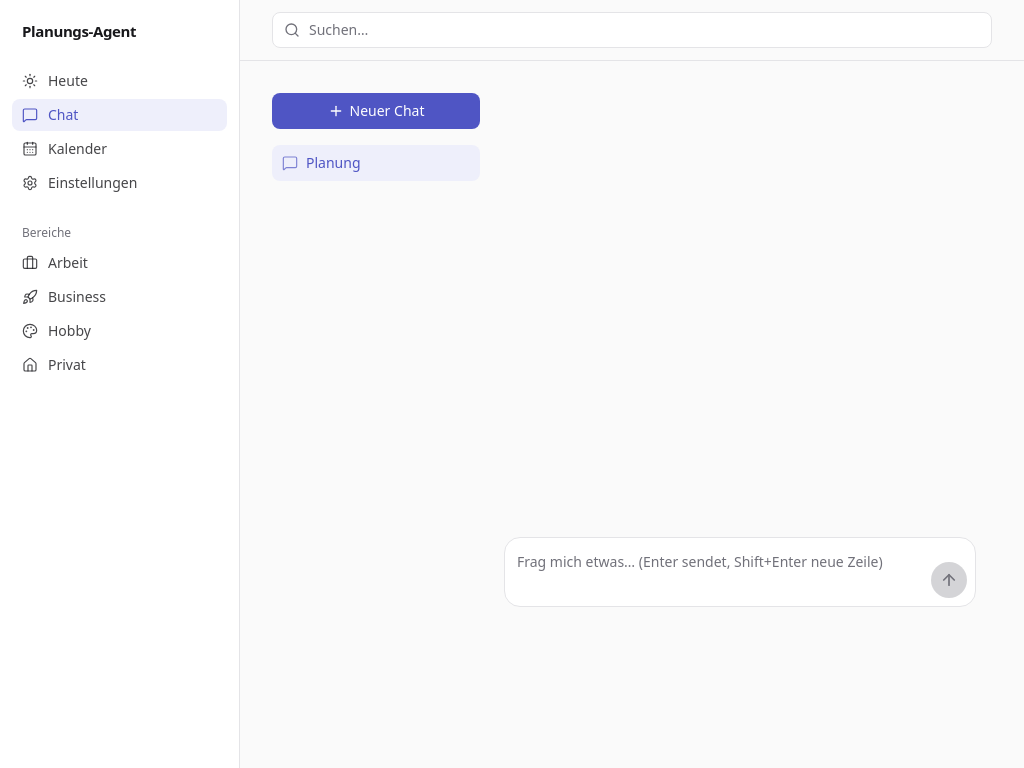
Test: sends a message, then shows the stored history
Type "Milch kaufen" into the text box named "Nachricht".
click(720, 572); type("Milch kaufen")  # box [517, 546, 923, 598]
Then press Enter
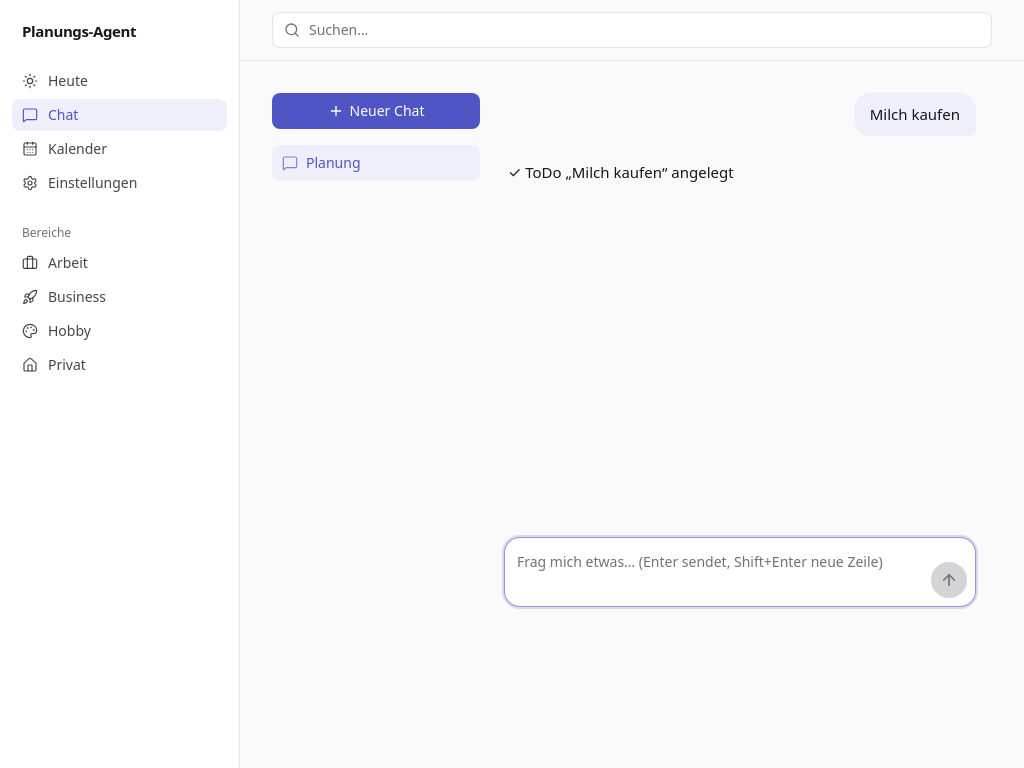
Now the text "✓ ToDo „Milch kaufen“ angelegt" is shown, box [508, 160, 734, 184]
